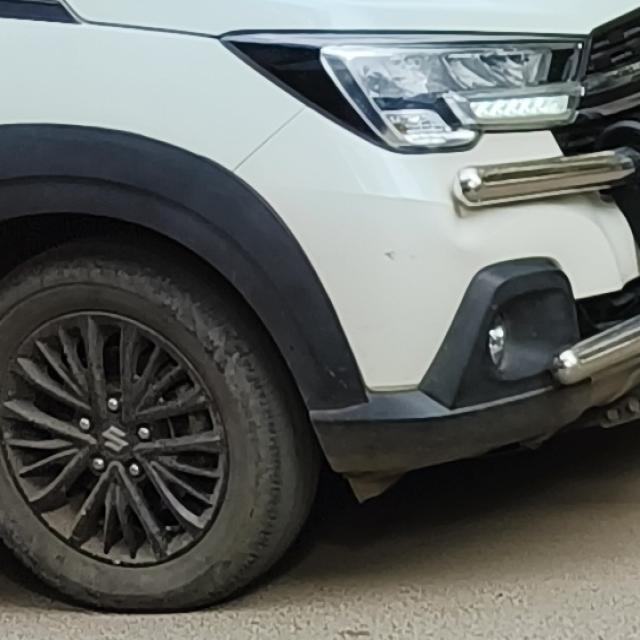scratch: (374, 238, 408, 277)
